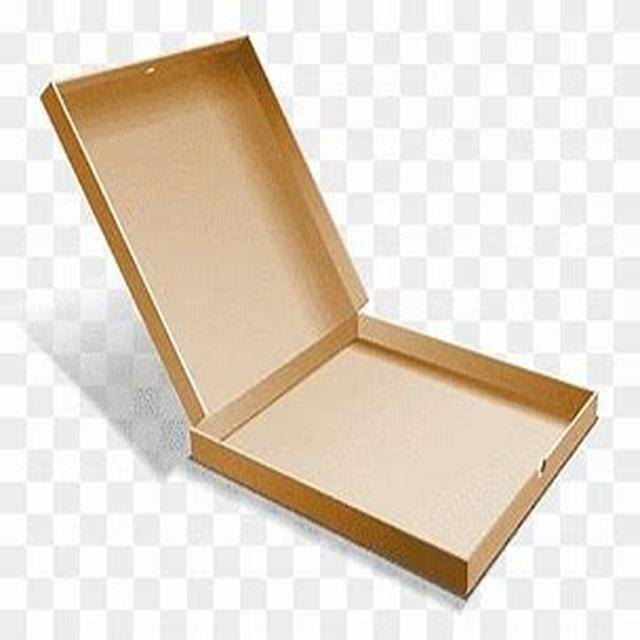box: (32, 34, 609, 584)
